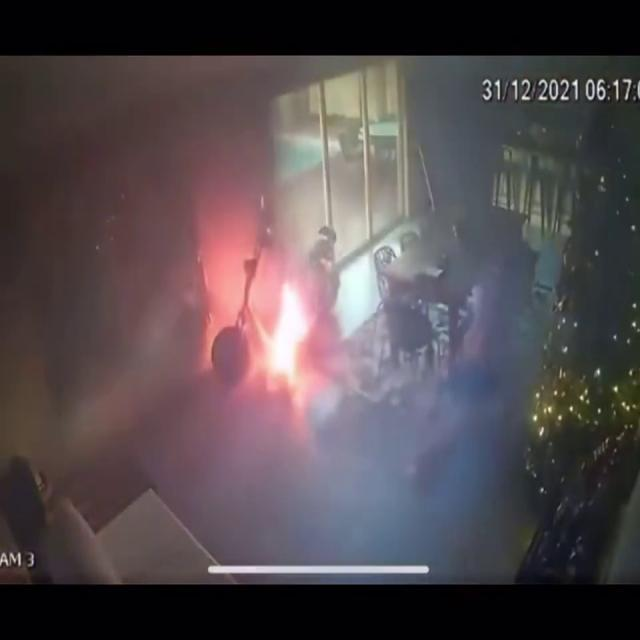Fire: (249, 255, 320, 390)
Smoke: (0, 59, 219, 480)
